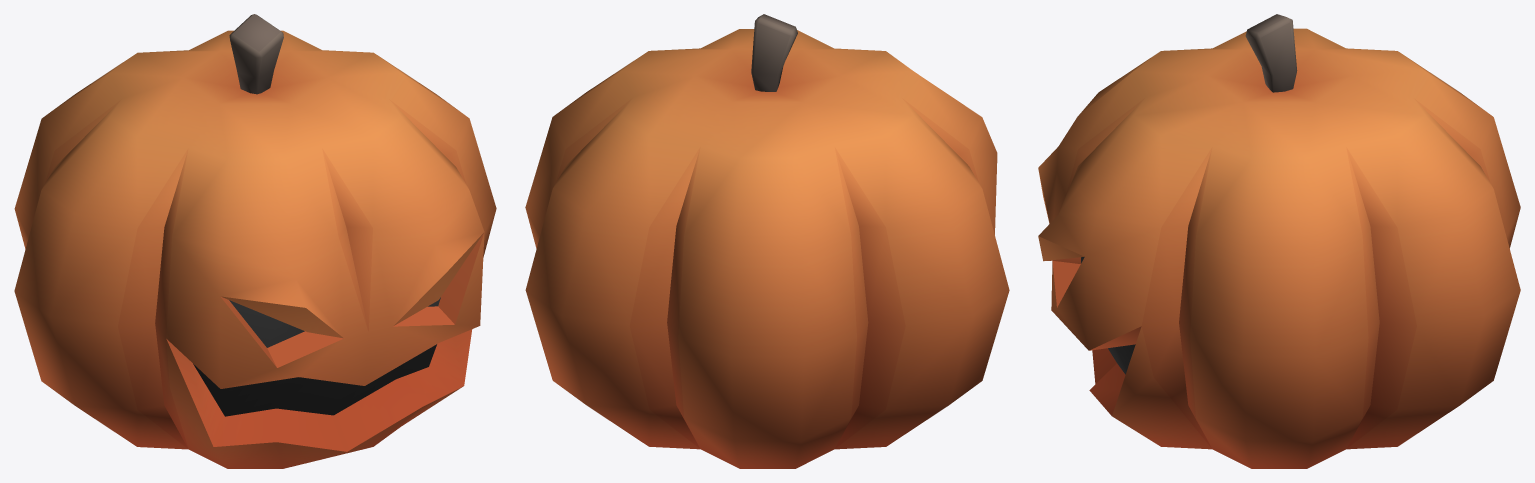
File: jackolantern_orange.glb
3 views of the same model, side by side, from view 1: azimuth 30°, elevation 25°; view 2: azimuth 150°, elevation 25°; view 3: azimuth 270°, elevation 25° (orthographic).
Visible parts, largest first — view 1: pumpkin_yellow_jackolantern; view 2: pumpkin_yellow_jackolantern; view 3: pumpkin_yellow_jackolantern.
Boxes of the visible parts, box(x1,y1,x2,y2) form: pumpkin_yellow_jackolantern: box(14, 14, 496, 468); pumpkin_yellow_jackolantern: box(525, 14, 1009, 468); pumpkin_yellow_jackolantern: box(1038, 14, 1520, 468).
Size of the model in its own units: 1.5 by 1.3 by 1.4.
Materials: 1 (1 with a texture image).
